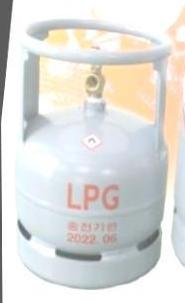cylinder: (1, 1, 185, 303)
